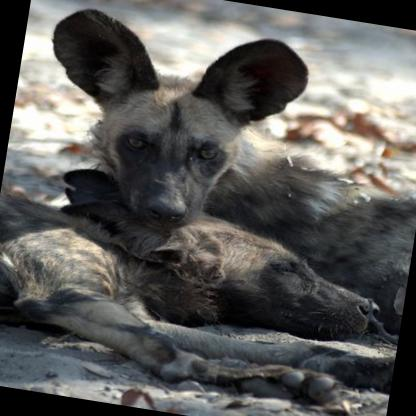African_hunting_dog: (0, 0, 416, 388), (0, 183, 409, 416)
